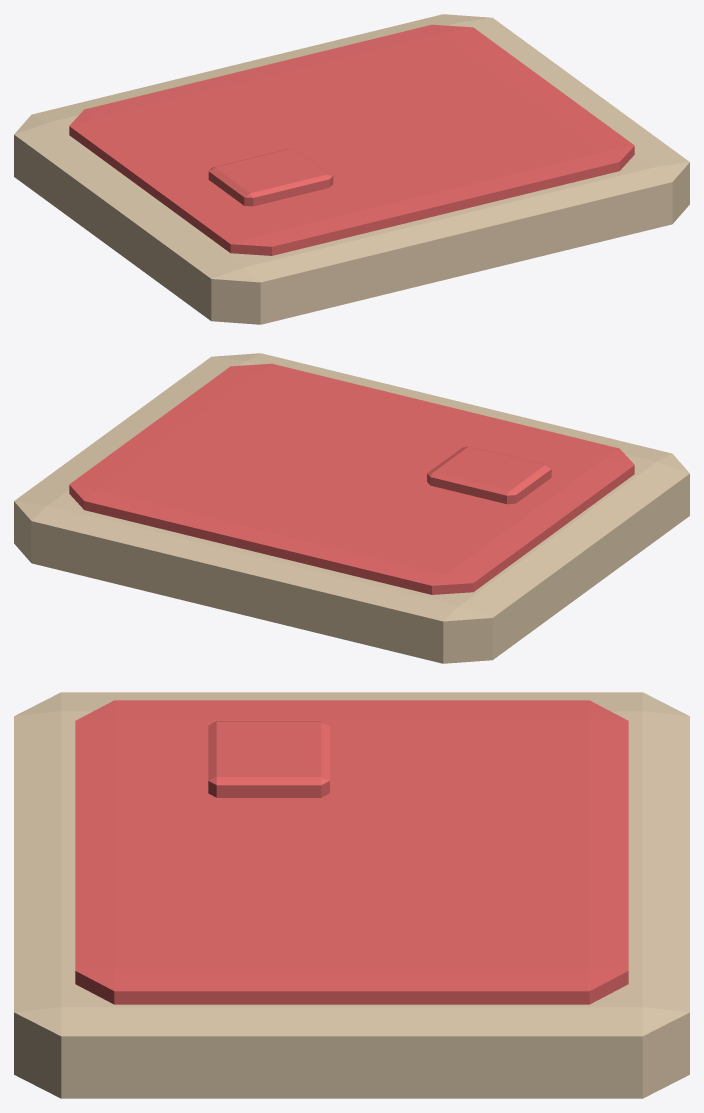
File: b16_broken_chocolate_chip_cookie.glb
The picture shows the model from 3 angles, top to bottom: view 1: azimuth 30°, elevation 25°; view 2: azimuth 150°, elevation 25°; view 3: azimuth 270°, elevation 25°; orthographic projection. The views are drawn at different scales.
Parts seen in each view (by area): view 1: b16_broken_chocolate_chip_cookie; view 2: b16_broken_chocolate_chip_cookie; view 3: b16_broken_chocolate_chip_cookie.
Part boxes in pixels (x1=…): b16_broken_chocolate_chip_cookie: x1=14, y1=14, x2=689, y2=324; b16_broken_chocolate_chip_cookie: x1=14, y1=353, x2=689, y2=663; b16_broken_chocolate_chip_cookie: x1=14, y1=692, x2=689, y2=1098.
Size of the model in its own units: 0.094 by 0.014 by 0.078.
